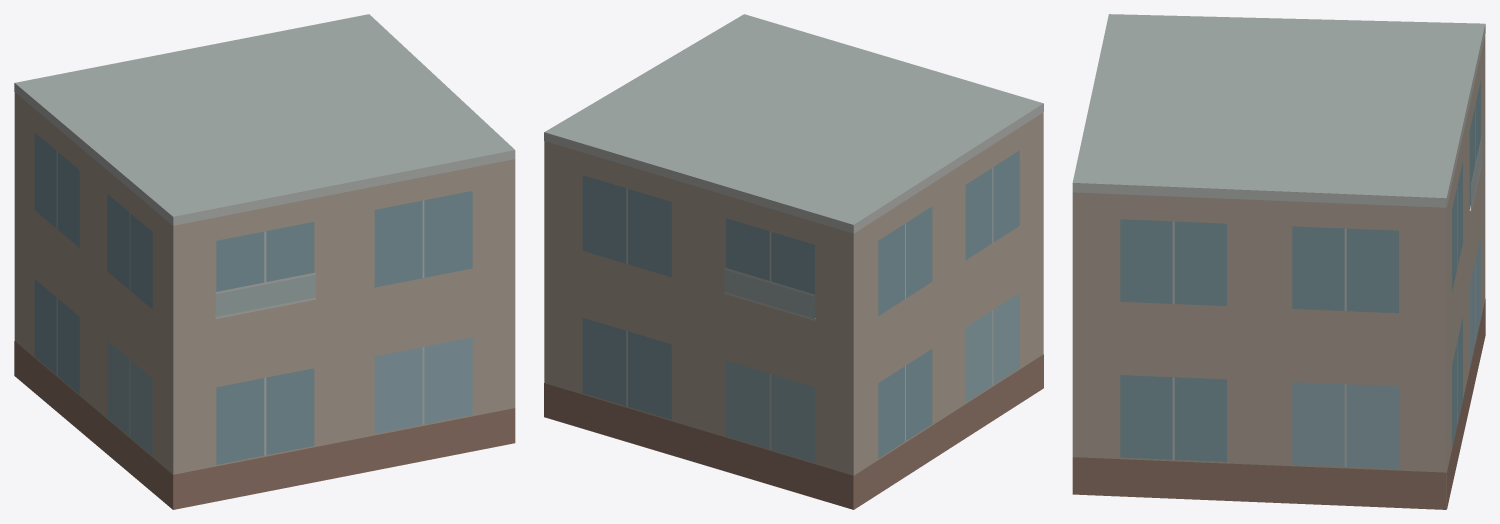
The model's file is survey-upis-32458654.glb.
3 renders of one model, left to right at view 1: azimuth 30°, elevation 25°; view 2: azimuth 150°, elevation 25°; view 3: azimuth 270°, elevation 25°, orthographic. The views are drawn at different scales.
Parts seen in each view (by area): view 1: survey-upis-32458654.tmp; view 2: survey-upis-32458654.tmp; view 3: survey-upis-32458654.tmp.
Boxes of the visible parts, box(x1,y1,x2,y2) form: survey-upis-32458654.tmp: box(14, 14, 515, 509); survey-upis-32458654.tmp: box(544, 14, 1043, 509); survey-upis-32458654.tmp: box(1072, 14, 1485, 509).
Size of the model in its own units: 10.09 by 7.95 by 9.56.
